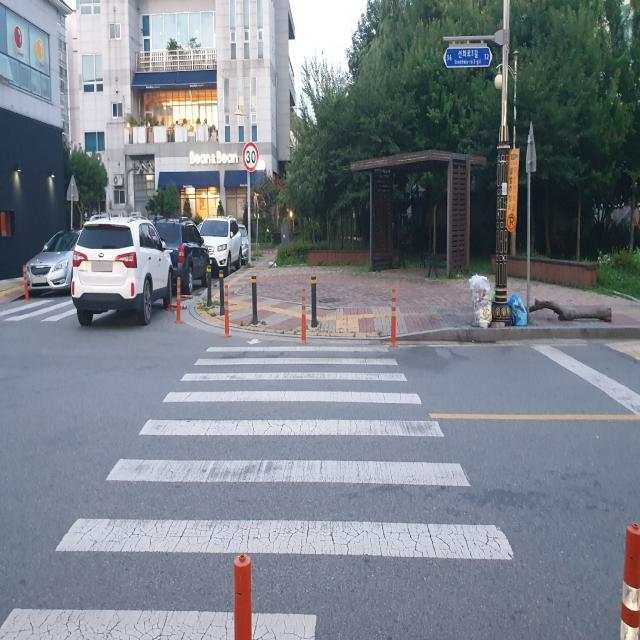횡단보도: (0, 336, 517, 640), (0, 292, 95, 330)
